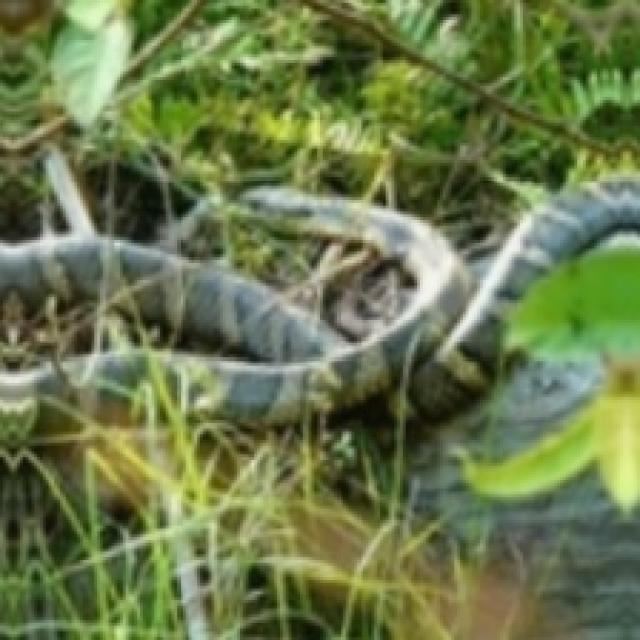king cobra: (0, 146, 637, 420), (0, 349, 143, 434)
